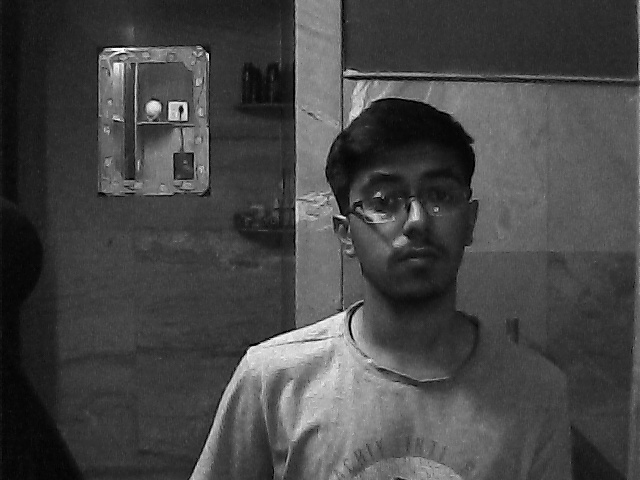nomask: (339, 140, 485, 307)
